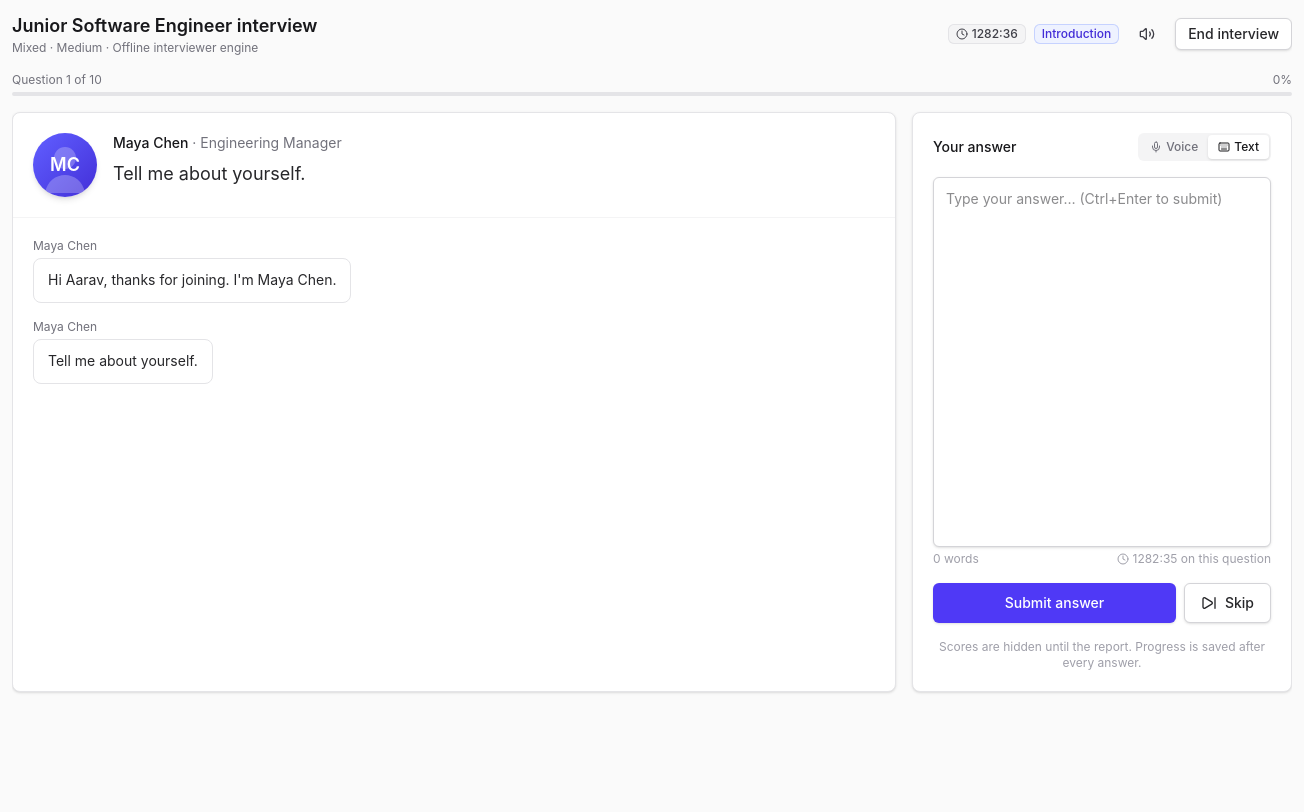
Scenario: Interview room › submits an answer, shows the follow-up and never shows scores
Expected: the text with test id "current-question" reads "Tell me about yourself.", x1=113 y1=163 x2=306 y2=184
Type "I am a student who builds things." into the text box labelled "answer" at x=1102, y=362, box x1=933 y1=177 x2=1271 y2=547
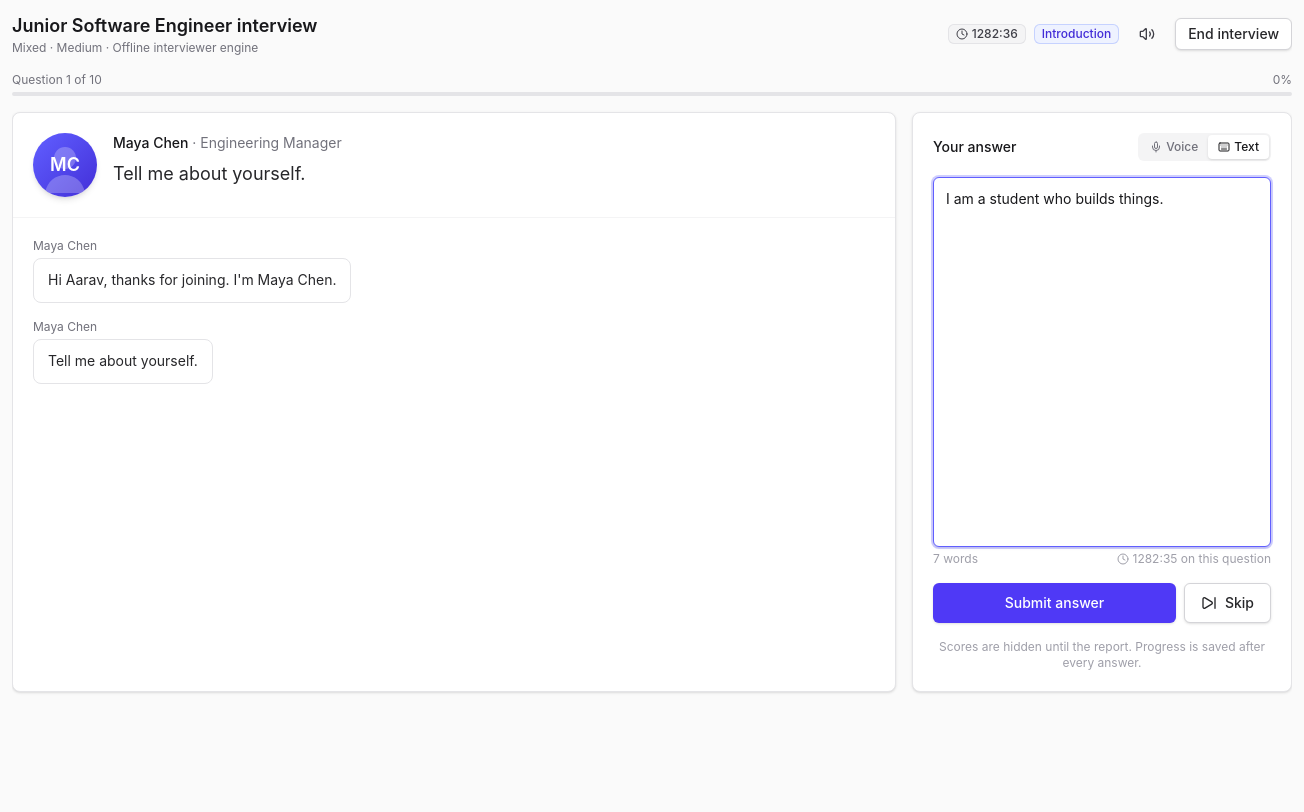
Click the button with test id "submit-answer" at x=1054, y=603, box x1=933 y1=583 x2=1176 y2=623
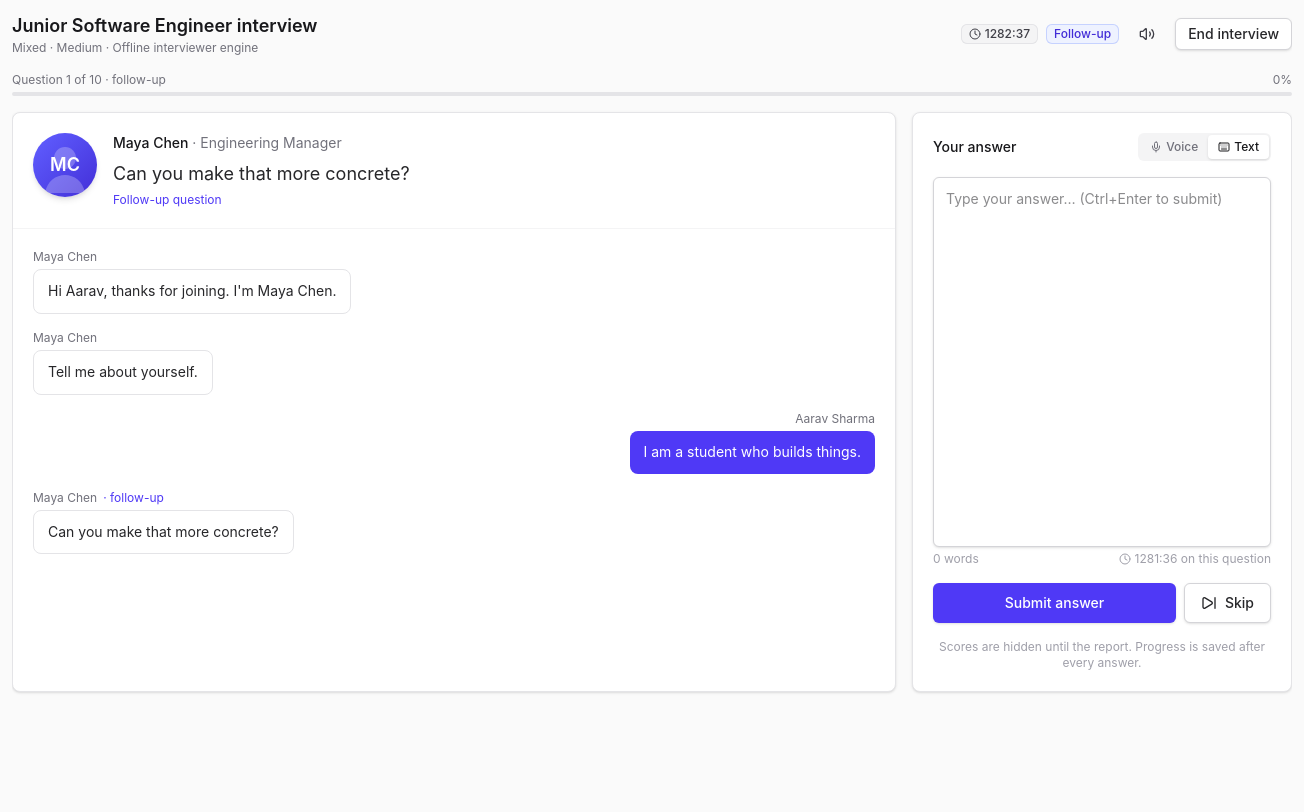
Expected: the text "Scores are hidden until the report" is shown, x1=939 y1=639 x2=1265 y2=670
Expected: the text "Follow-up question" is shown, x1=113 y1=192 x2=222 y2=207
